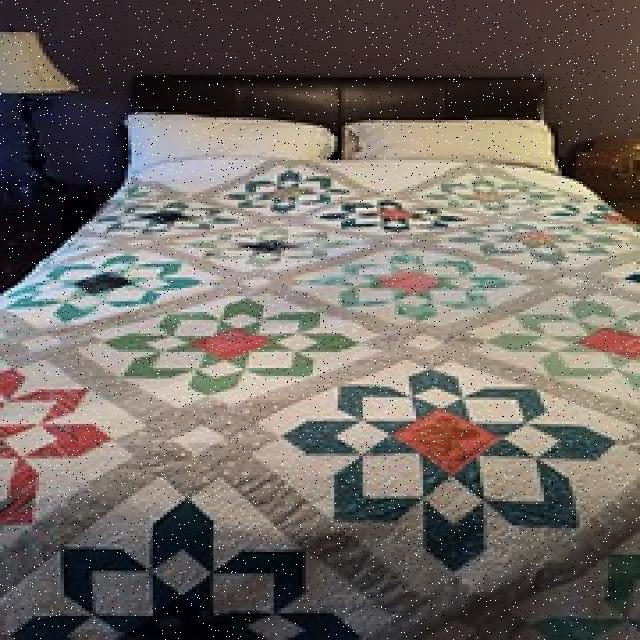bed: (14, 68, 640, 640)
